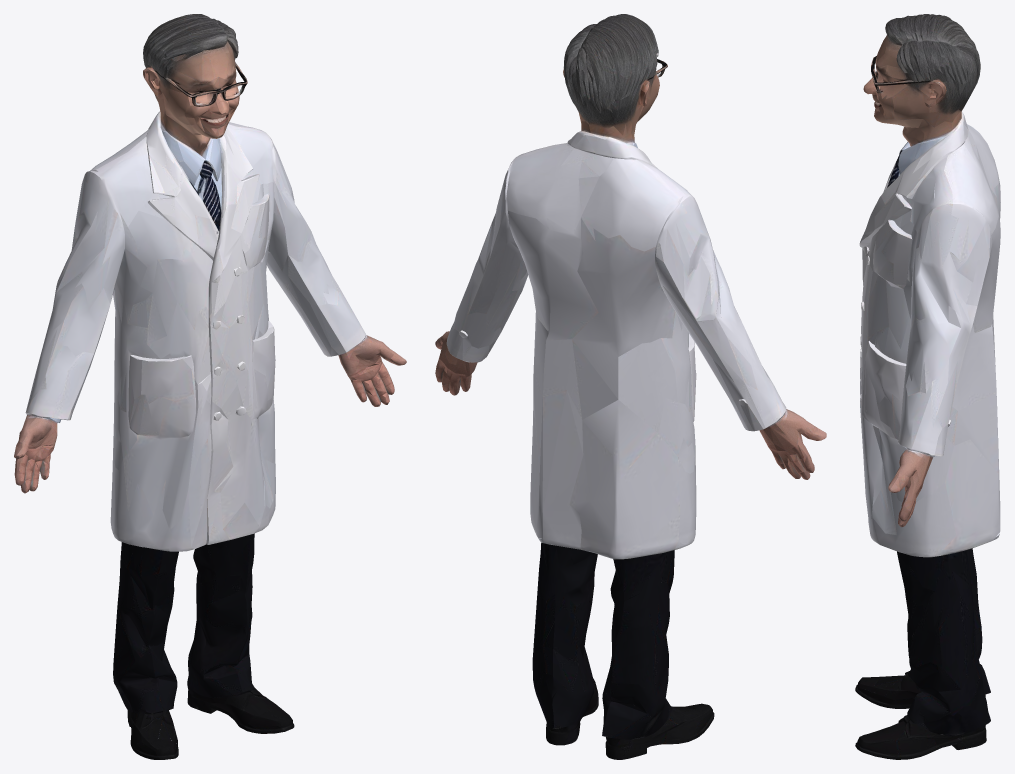
3 views of the same model, side by side, from view 1: azimuth 30°, elevation 25°; view 2: azimuth 150°, elevation 25°; view 3: azimuth 270°, elevation 25° (orthographic).
Size of the model in its own units: 1.1 by 1.9 by 0.3543.
Materials: 1 (1 with a texture image).
